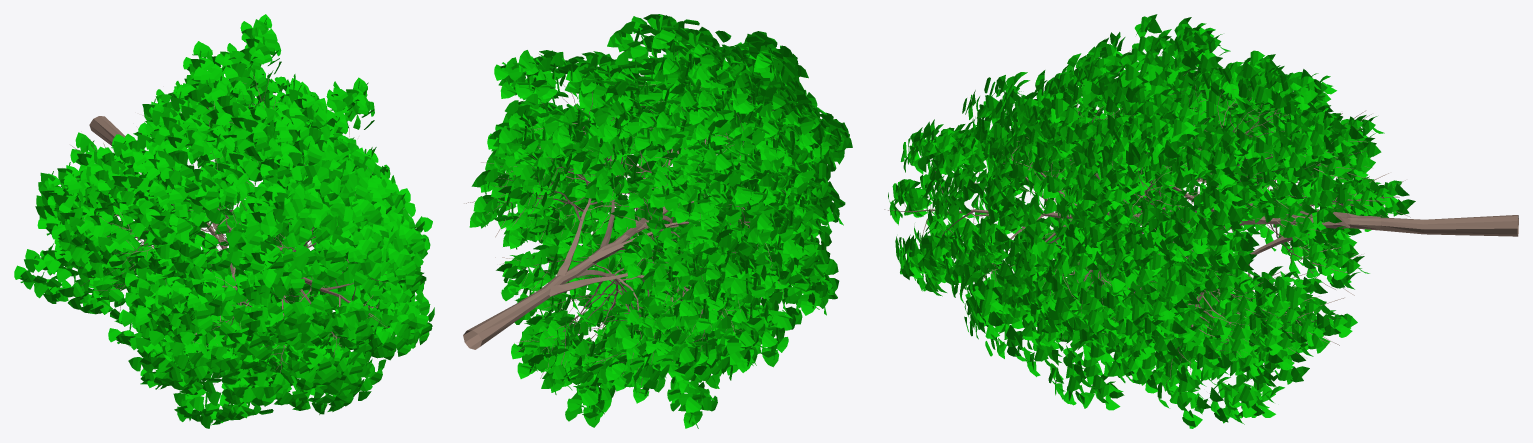
Rendered from tree.gltf.
3 renders of one model, left to right at view 1: azimuth 30°, elevation 25°; view 2: azimuth 150°, elevation 25°; view 3: azimuth 270°, elevation 25°, orthographic. The views are drawn at different scales.
Visible parts, largest first — view 1: Node1, Node2; view 2: Node2, Node1; view 3: Node1, Node2.
Boxes of the visible parts, bbox=[...] form: Node1: bbox=[71, 73, 434, 414]; Node2: bbox=[14, 14, 390, 428]; Node2: bbox=[469, 50, 812, 428]; Node1: bbox=[463, 14, 852, 395]; Node1: bbox=[884, 39, 1518, 410]; Node2: bbox=[1025, 14, 1415, 428].
Bounding box in the file's own units: 10.14 × 10.45 × 15.83.
